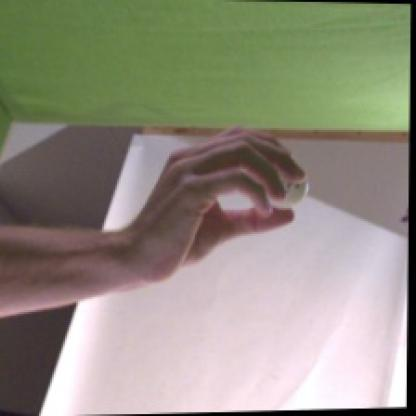Hand: (129, 126, 310, 286)
